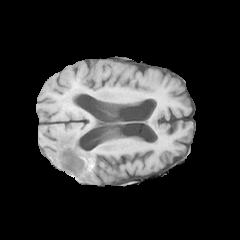glioma: (49, 96, 99, 181)
